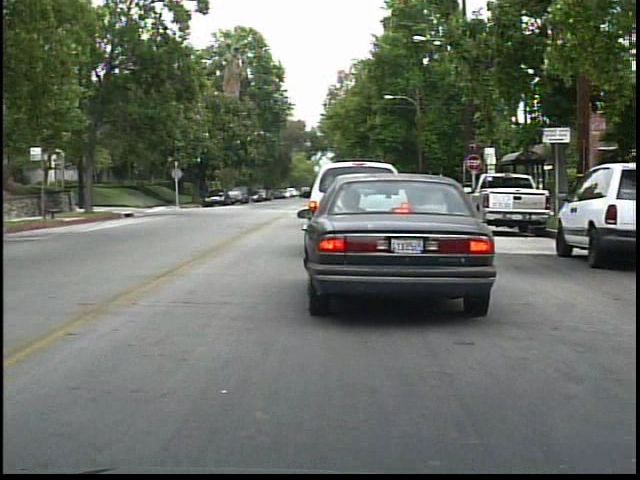car: (287, 165, 497, 326), (556, 149, 640, 262), (473, 170, 549, 235)
stop: (462, 154, 481, 173)
